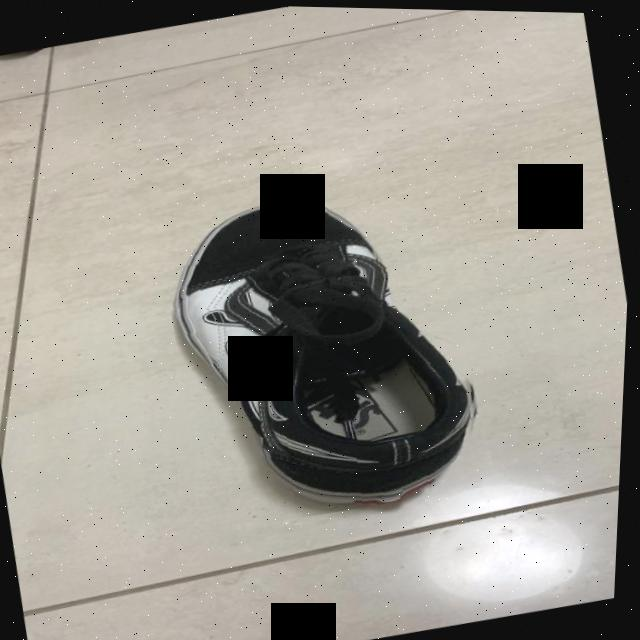shoe: (149, 163, 507, 538)
